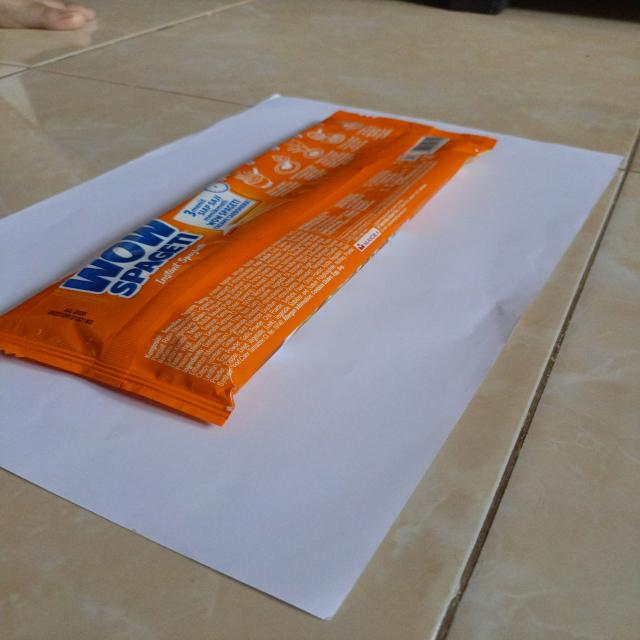indomie-tori-miso: (0, 108, 500, 428)
